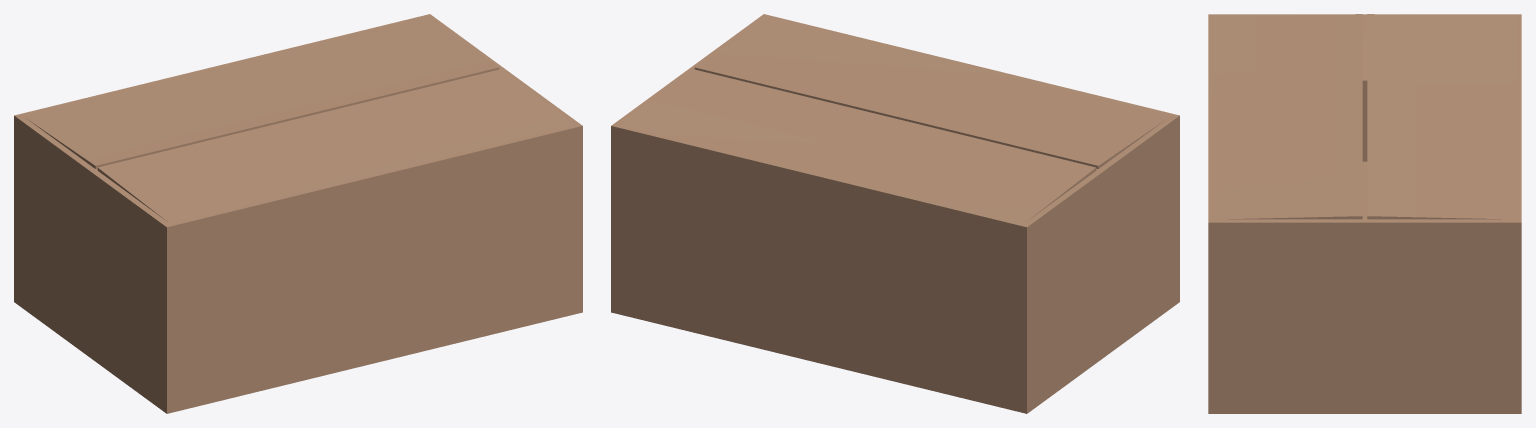
File: Cardboard Box 1.fbx
3 views of the same model, side by side, from view 1: azimuth 30°, elevation 25°; view 2: azimuth 150°, elevation 25°; view 3: azimuth 270°, elevation 25° (orthographic). The views are drawn at different scales.
Visible parts, largest first — view 1: Cardboard_Box_5; view 2: Cardboard_Box_5; view 3: Cardboard_Box_5.
Boxes of the visible parts, <box> form: Cardboard_Box_5: <box>14,14,582,413</box>; Cardboard_Box_5: <box>611,14,1179,413</box>; Cardboard_Box_5: <box>1208,14,1521,413</box>.
Bounding box in the file's own units: 60.96 × 26.58 × 38.79.
